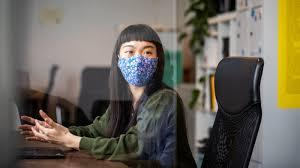mask: (117, 55, 160, 89)
